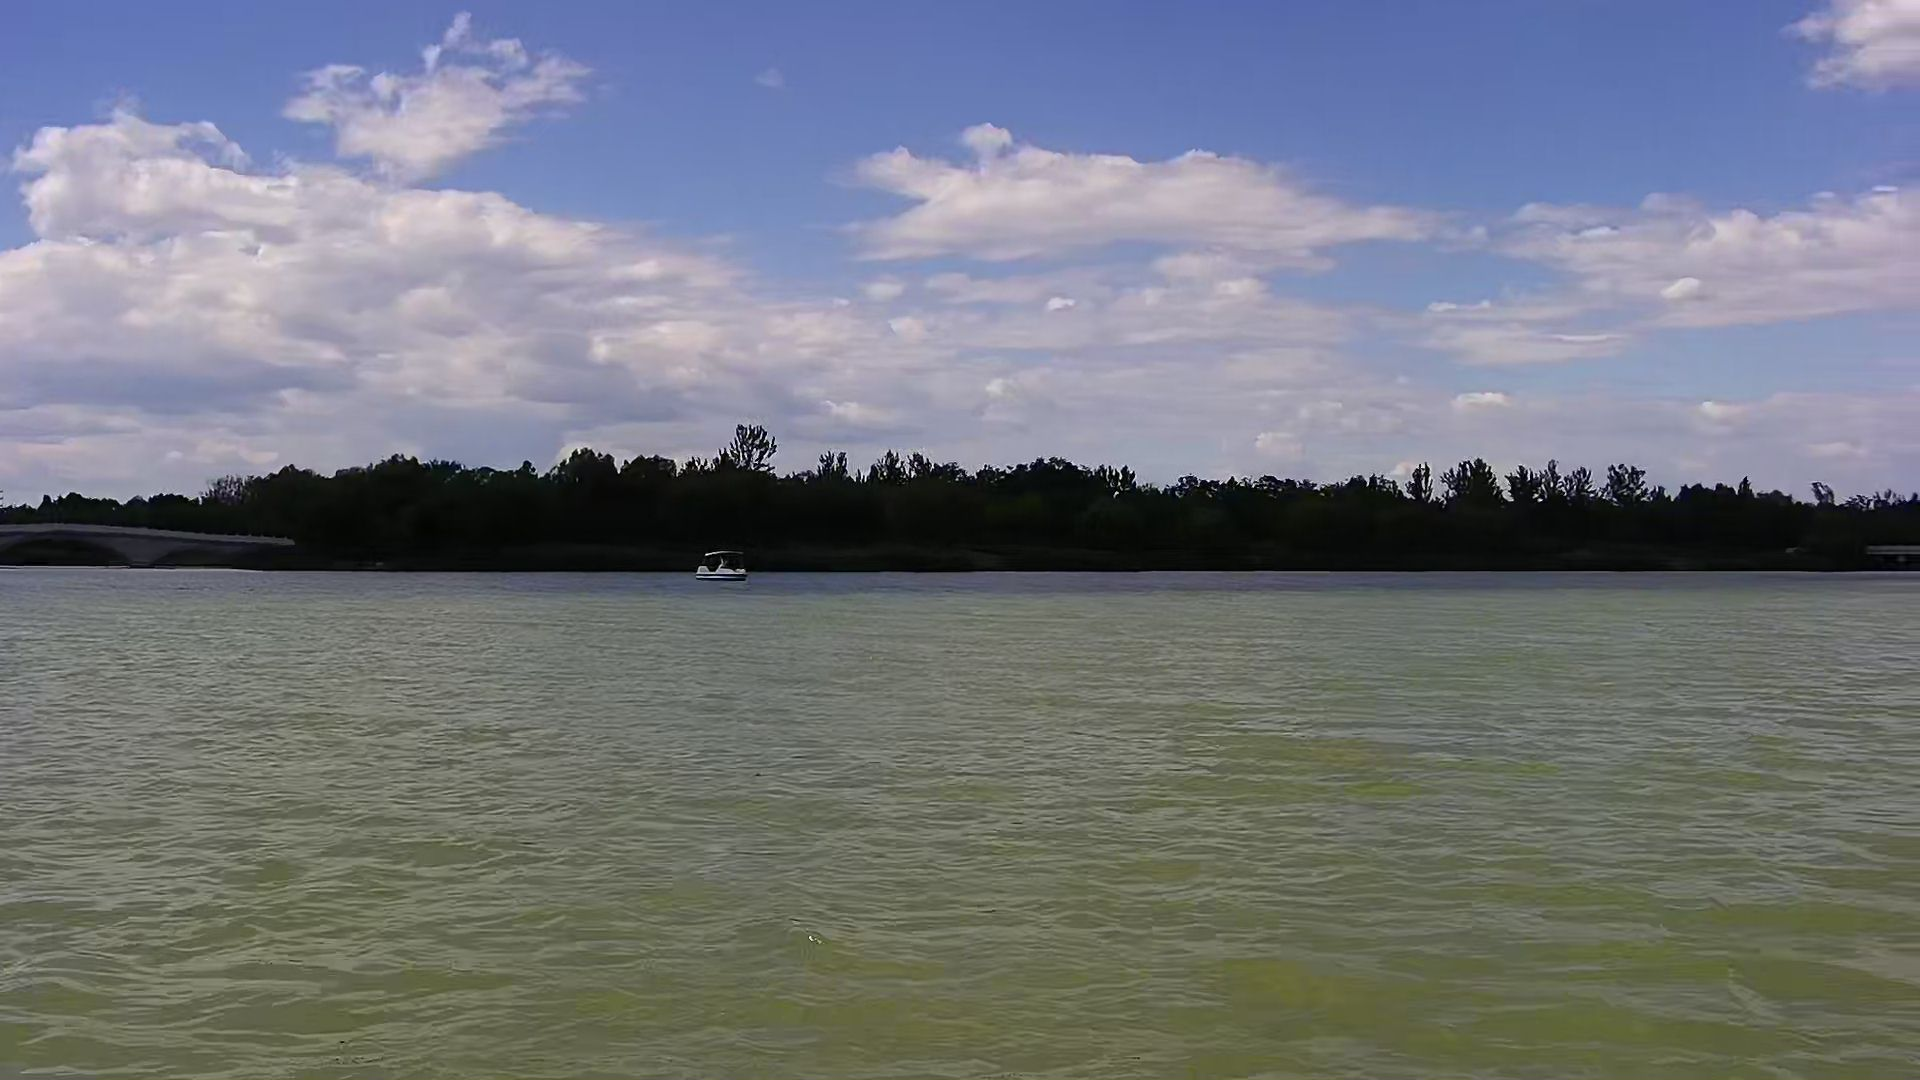boat: (694, 547, 762, 589)
bridge: (1, 512, 313, 566)
